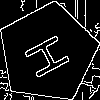H: (23, 28, 80, 81)
